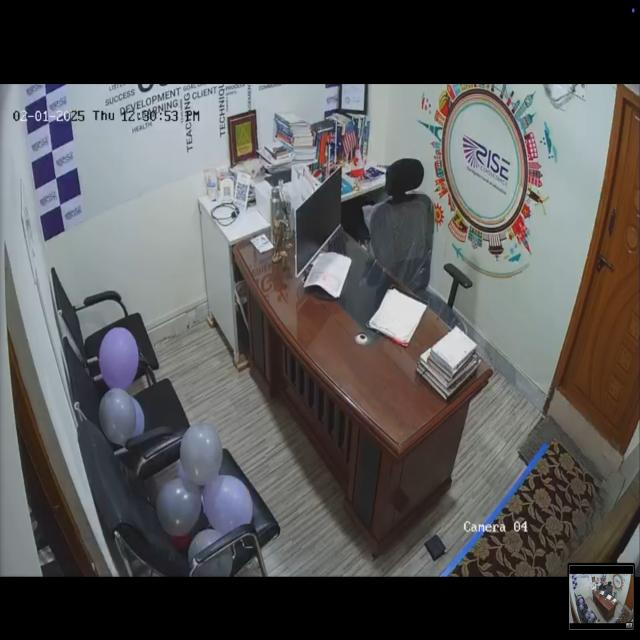wallet: (424, 534, 449, 562)
